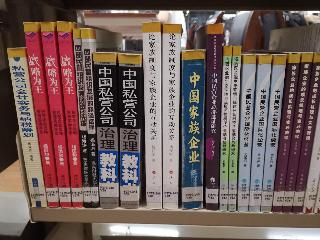book-spine: (22, 20, 61, 208), (7, 45, 48, 210), (39, 20, 72, 209), (267, 51, 303, 214), (279, 51, 314, 215), (55, 20, 85, 208), (257, 54, 287, 213), (91, 50, 120, 209), (292, 51, 320, 215), (179, 50, 207, 210), (159, 24, 183, 210), (246, 53, 273, 213), (114, 54, 142, 208), (232, 54, 259, 211), (79, 28, 100, 210), (203, 24, 223, 211), (142, 22, 162, 208), (73, 27, 92, 209), (227, 45, 242, 212), (218, 46, 233, 211)
